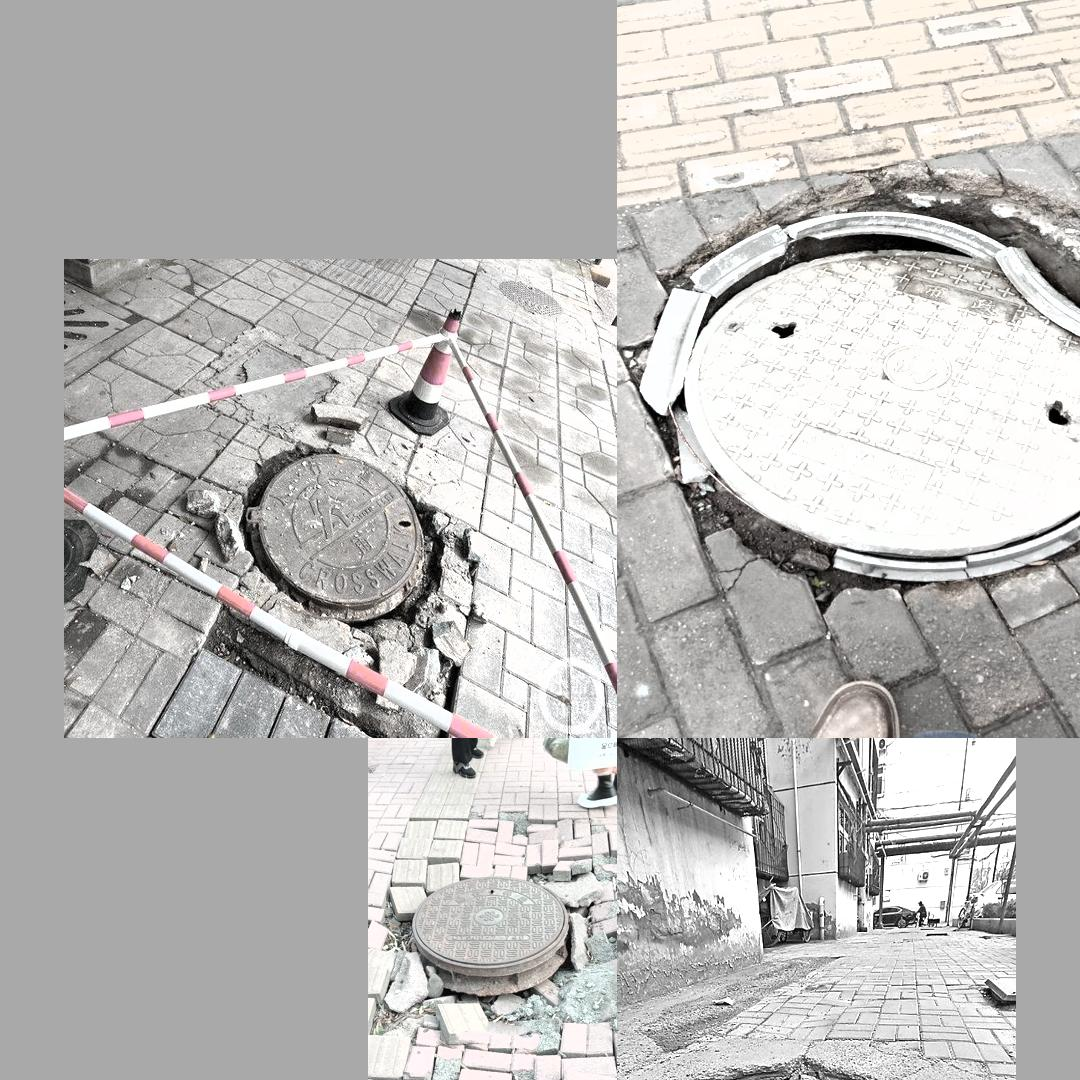circle: (625, 170, 1080, 603), (200, 424, 470, 721), (373, 825, 614, 1080), (617, 1040, 962, 1080)
